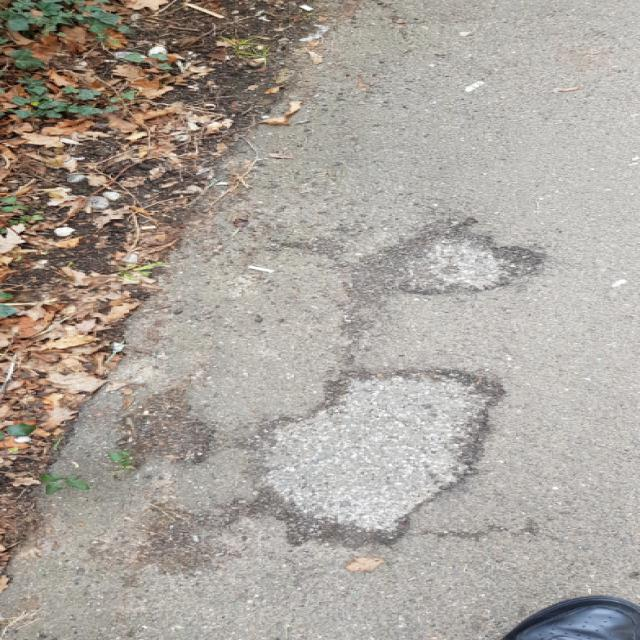pothole: (242, 361, 508, 549), (364, 212, 560, 296)
